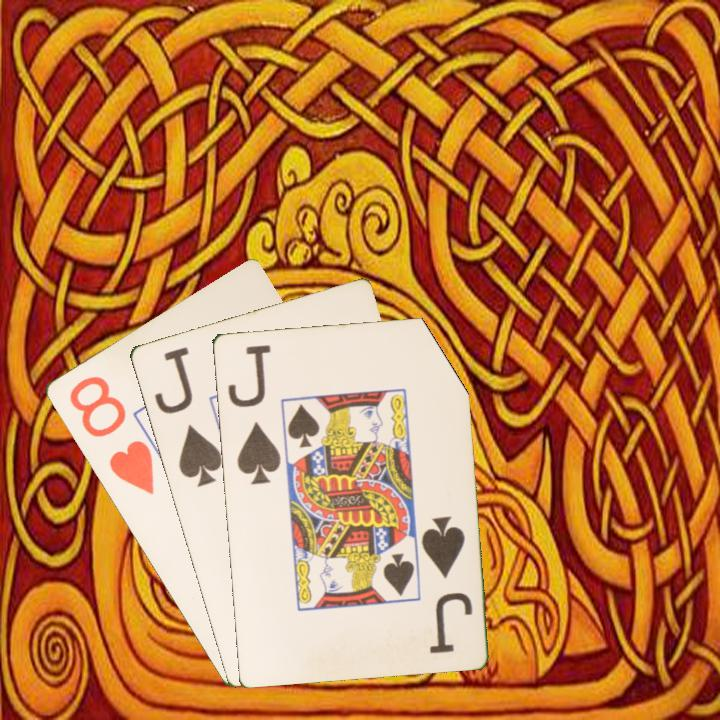8h: (65, 372, 157, 498)
Js: (150, 343, 225, 490), (223, 341, 284, 487), (417, 512, 475, 656)
